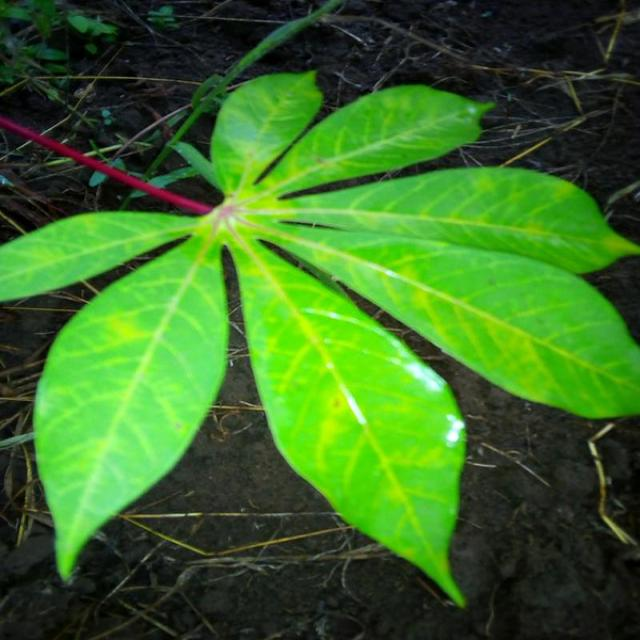cassava leaf: (1, 67, 638, 606), (226, 233, 468, 608), (31, 229, 230, 582)
